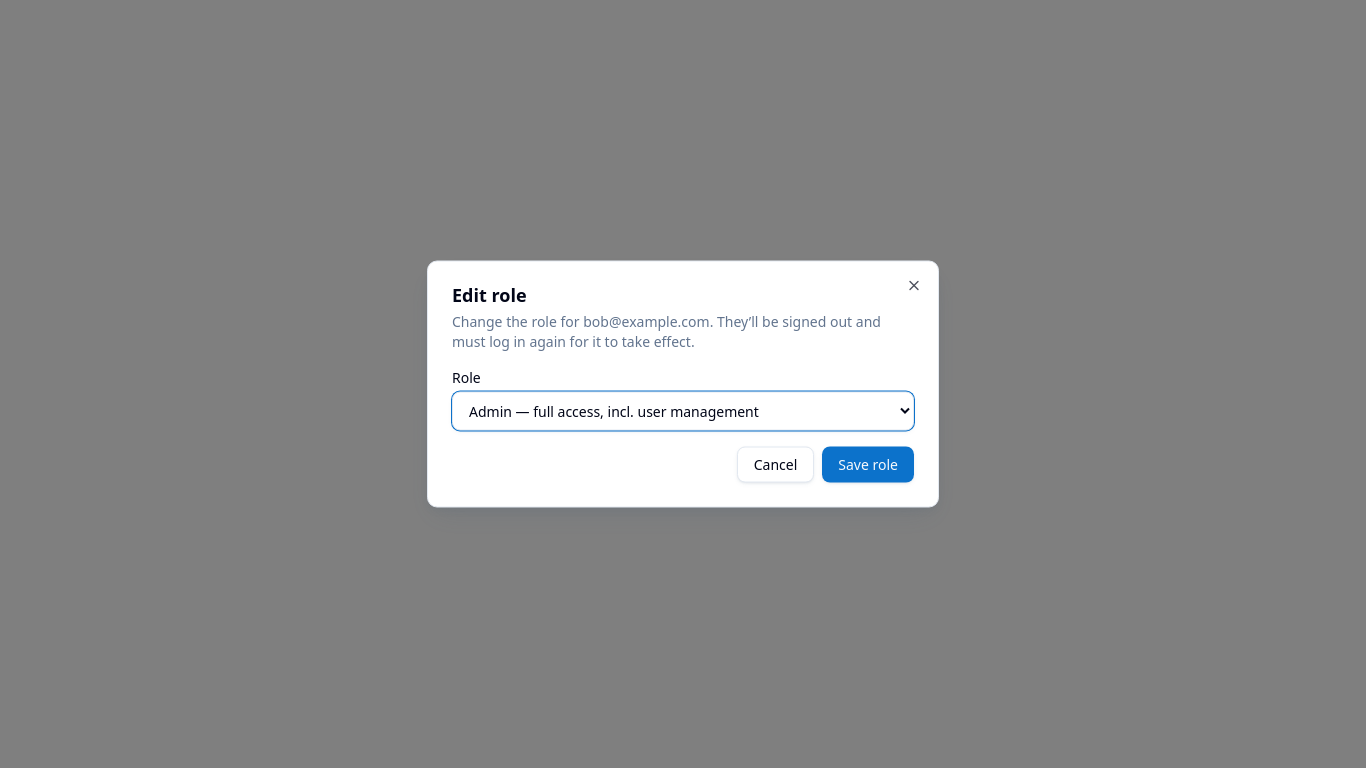
Scenario: EditUserRoleDialog › surfaces a 409 self-lockout as a form error and stays open
The width and height of the screenshot is (1366, 768).
Select "Editor — can author and run" in the dropdown at (683,411), box x1=452 y1=392 x2=914 y2=430
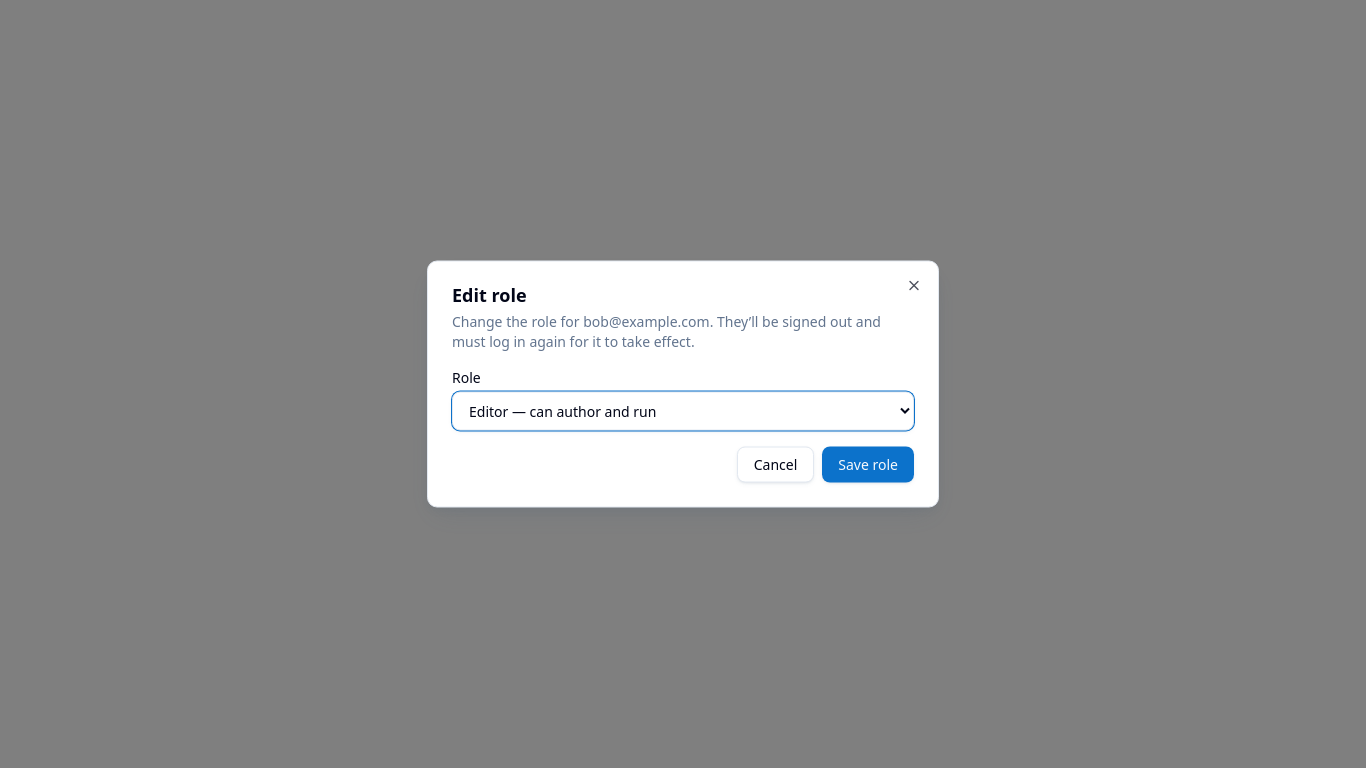
Click the button "Save role".
click(868, 464)  # box x1=822 y1=446 x2=914 y2=482
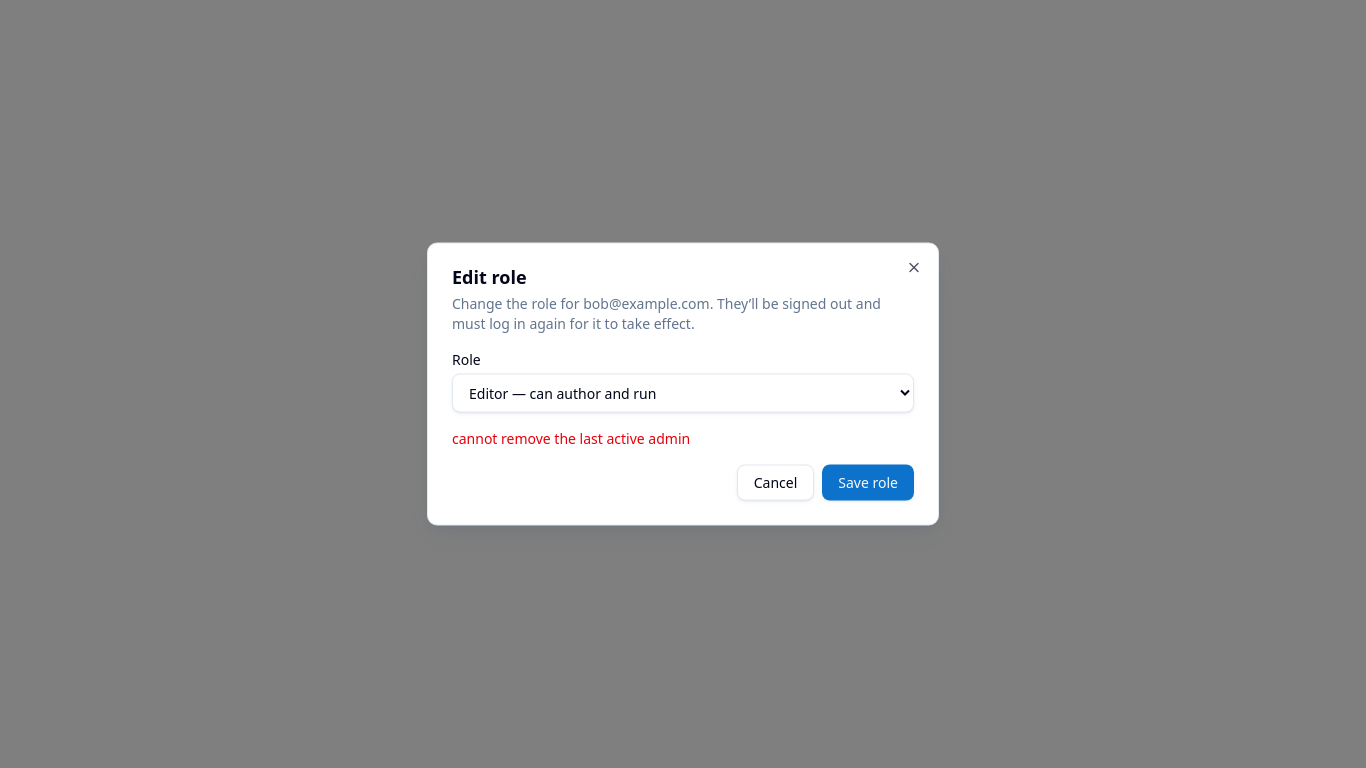
Check: the message reads "cannot remove the last active admin", box x1=452 y1=428 x2=690 y2=448
